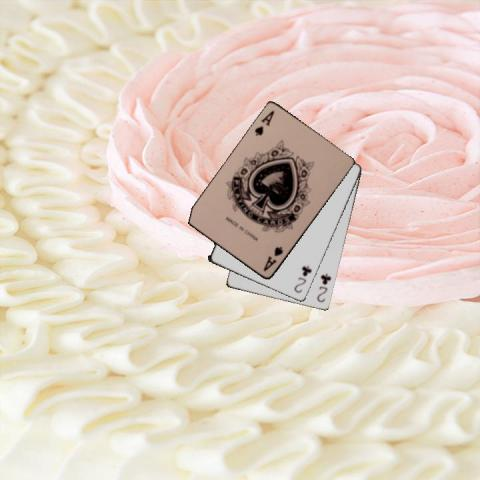2c: (292, 262, 314, 294), (314, 271, 333, 304)
As: (260, 244, 284, 274), (252, 108, 276, 137)
